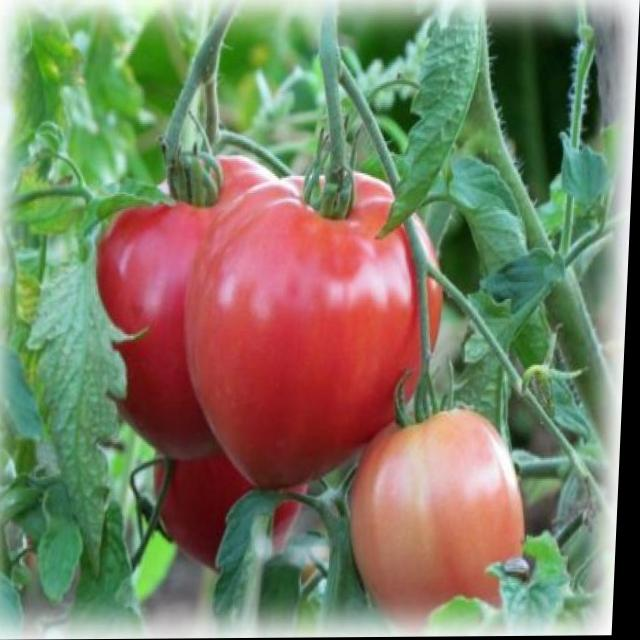kirmizi: (71, 167, 454, 415)
